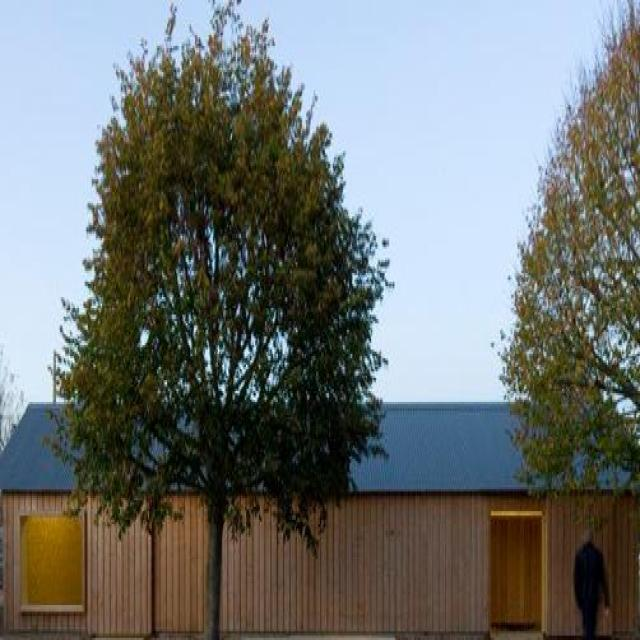door: (489, 514, 546, 626)
plant: (42, 0, 395, 638), (490, 0, 639, 543)
wall: (0, 400, 639, 638)
windows: (19, 518, 85, 611)
